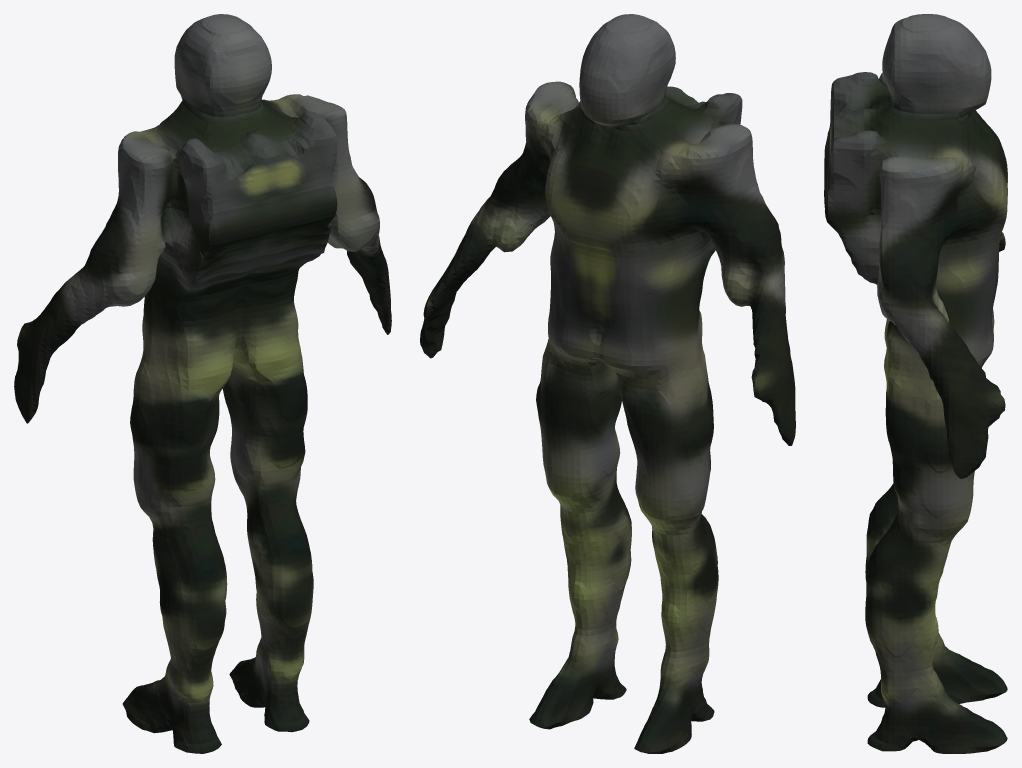
The model's file is ProtagonistLowPoly.glb.
3 views of the same model, side by side, from view 1: azimuth 30°, elevation 25°; view 2: azimuth 150°, elevation 25°; view 3: azimuth 270°, elevation 25° (orthographic).
Parts seen in each view (by area): view 1: tmpw8qpwz91.ply; view 2: tmpw8qpwz91.ply; view 3: tmpw8qpwz91.ply.
Part boxes in pixels (box(x1,y1,x2,y2)): tmpw8qpwz91.ply: box(14, 14, 391, 753); tmpw8qpwz91.ply: box(420, 14, 795, 753); tmpw8qpwz91.ply: box(824, 14, 1007, 753).
Bounding box in the file's own units: 1.09 × 1.98 × 0.4709.
